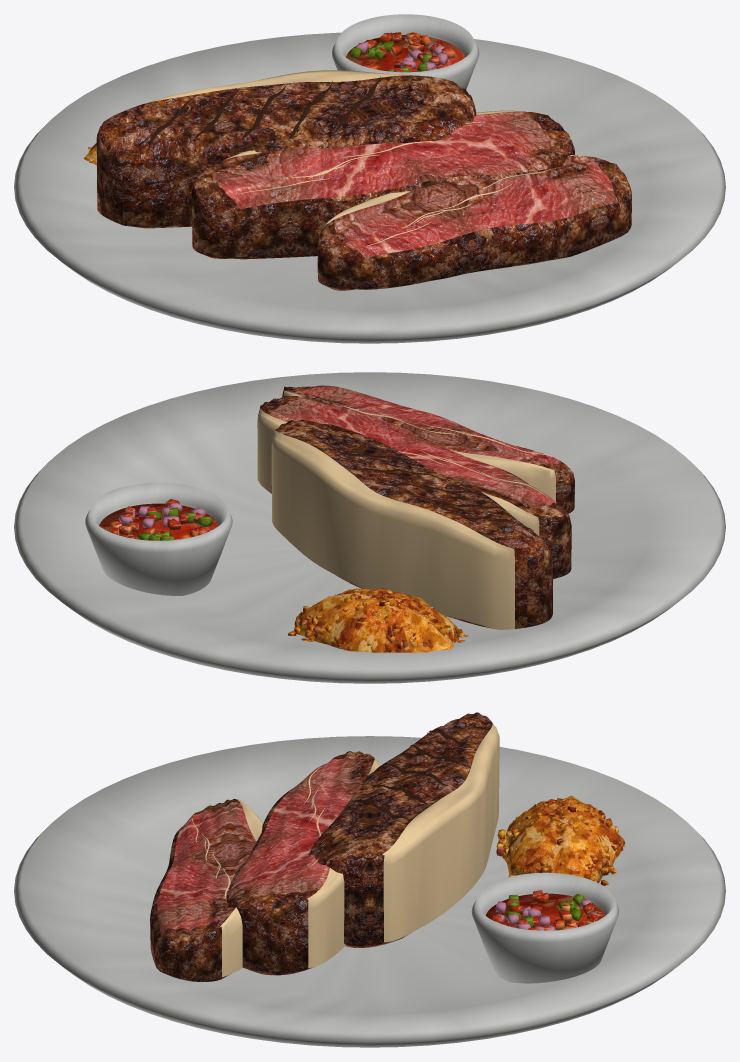
File: picanha-na-brasa.glb
3 views of the same model, one above another, from view 1: azimuth 30°, elevation 25°; view 2: azimuth 150°, elevation 25°; view 3: azimuth 270°, elevation 25° (orthographic).
Parts seen in each view (by area): view 1: Prato004, SM_Picanha_REAL-carne-selada, SM_Picanha_REAL-carne-ao-ponto, SM_Picanha_REAL-gordura, Conteudo001, SM_Picanha_REAL-carbonizado, SM_Picanha_REAL-cebola-roxa, SM_Picanha_REAL-manjericao; view 2: Prato004, SM_Picanha_REAL-gordura, SM_Picanha_REAL-carne-selada, SM_Picanha_REAL-carne-ao-ponto, SM_Picanha_REAL-farofa, Conteudo001, SM_Picanha_REAL-carbonizado, SM_Picanha_REAL-manjericao, SM_Picanha_REAL-cebola-roxa; view 3: Prato004, SM_Picanha_REAL-carne-selada, SM_Picanha_REAL-gordura, SM_Picanha_REAL-carne-ao-ponto, SM_Picanha_REAL-farofa, Conteudo001, SM_Picanha_REAL-carbonizado, SM_Picanha_REAL-cebola-roxa, SM_Picanha_REAL-manjericao.
Boxes of the visible parts, x1,y1,x2,y2 form: Prato004: (14, 14, 725, 343); SM_Picanha_REAL-carne-selada: (96, 75, 631, 290); SM_Picanha_REAL-carne-ao-ponto: (214, 111, 613, 257); SM_Picanha_REAL-gordura: (144, 70, 604, 246); Conteudo001: (346, 32, 465, 72); SM_Picanha_REAL-carbonizado: (148, 76, 380, 148); SM_Picanha_REAL-cebola-roxa: (356, 41, 447, 70); SM_Picanha_REAL-manjericao: (350, 41, 431, 72); Prato004: (14, 372, 725, 683); SM_Picanha_REAL-gordura: (257, 390, 555, 629); SM_Picanha_REAL-carne-selada: (258, 385, 574, 628); SM_Picanha_REAL-carne-ao-ponto: (270, 385, 559, 508); SM_Picanha_REAL-farofa: (288, 587, 468, 652); Conteudo001: (99, 499, 218, 540); SM_Picanha_REAL-carbonizado: (316, 447, 533, 531); SM_Picanha_REAL-manjericao: (137, 507, 213, 540); SM_Picanha_REAL-cebola-roxa: (119, 502, 205, 540); Prato004: (14, 736, 725, 1047); SM_Picanha_REAL-carne-selada: (150, 712, 492, 981); SM_Picanha_REAL-gordura: (192, 723, 499, 977); SM_Picanha_REAL-carne-ao-ponto: (157, 757, 374, 931); SM_Picanha_REAL-farofa: (496, 795, 625, 885); Conteudo001: (485, 890, 604, 930); SM_Picanha_REAL-carbonizado: (356, 729, 471, 819); SM_Picanha_REAL-cebola-roxa: (495, 898, 591, 930); SM_Picanha_REAL-manjericao: (505, 894, 584, 927).
Size of the model in its own units: 0.28 by 0.052 by 0.28.
Materials: 10 (6 with a texture image).
